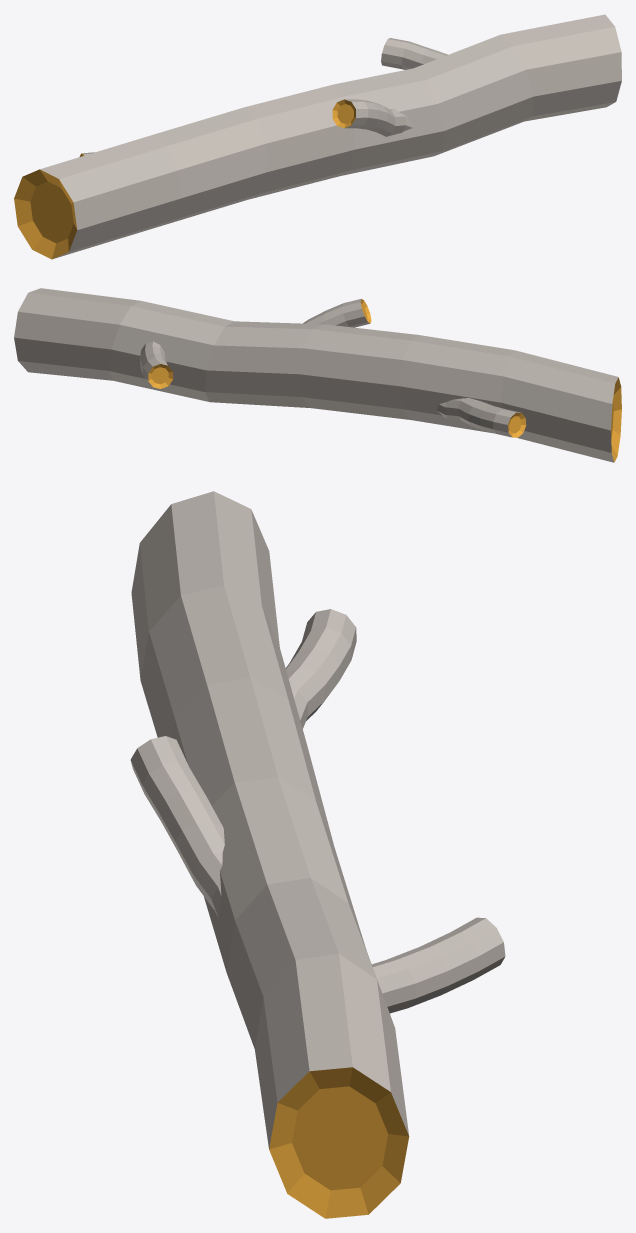
The model's file is CIOCCO_3.fbx.
The picture shows the model from 3 angles, top to bottom: view 1: azimuth 30°, elevation 25°; view 2: azimuth 150°, elevation 25°; view 3: azimuth 270°, elevation 25°; orthographic projection. The views are drawn at different scales.
Visible parts, largest first — view 1: group1972417732; view 2: group1972417732; view 3: group1972417732.
Part boxes in pixels (x1,y1,x2,y2): group1972417732: [14, 14, 621, 259]; group1972417732: [14, 288, 621, 462]; group1972417732: [130, 491, 505, 1218].
Bounding box in the file's own units: 0.8879 × 0.158 × 0.2563.
